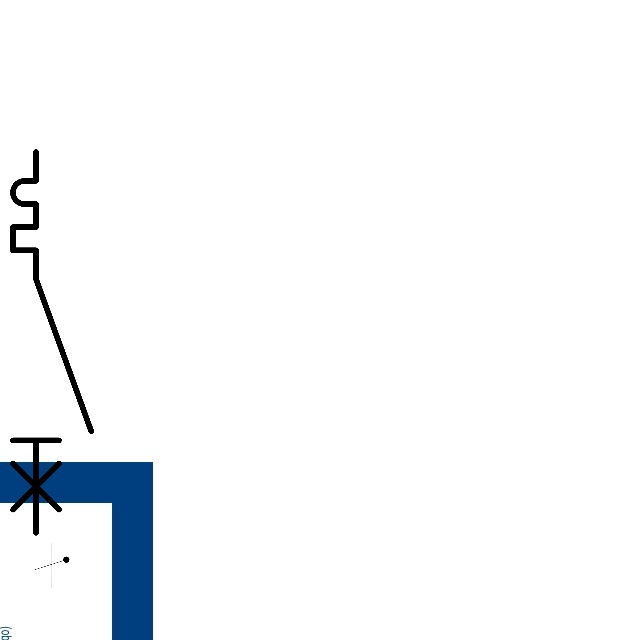interruptor_termomagnetico: (3, 142, 101, 543)
